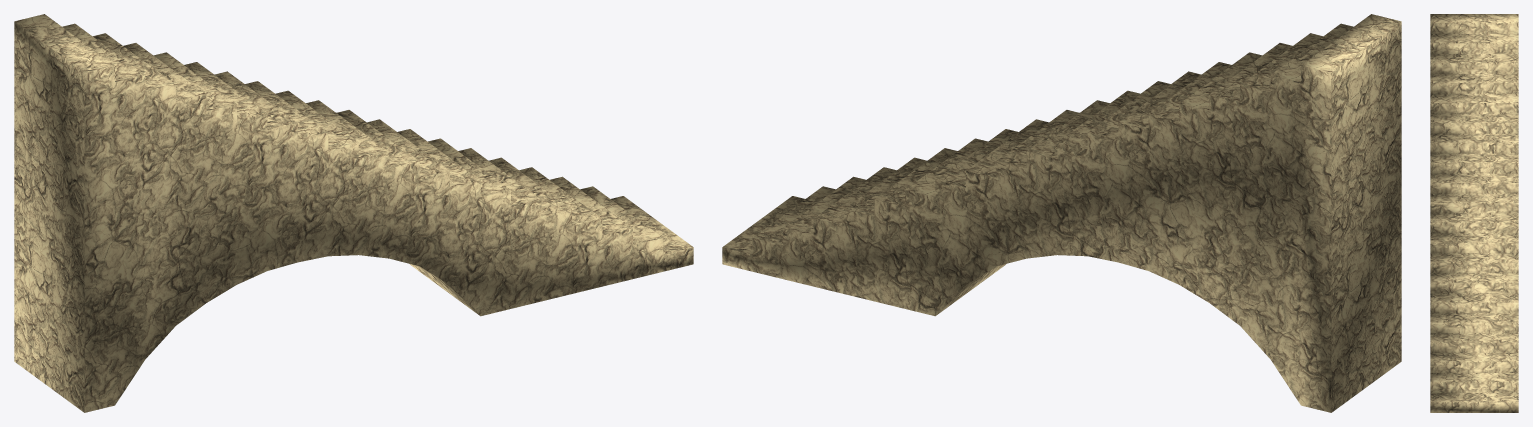
Rendered from stair.fbx.
The picture shows the model from 3 angles, left to right: view 1: azimuth 30°, elevation 25°; view 2: azimuth 150°, elevation 25°; view 3: azimuth 270°, elevation 25°; orthographic projection. The views are drawn at different scales.
Parts seen in each view (by area): view 1: stair; view 2: stair; view 3: stair.
Boxes of the visible parts, bbox=[...] form: stair: bbox=[14, 14, 693, 412]; stair: bbox=[722, 14, 1401, 412]; stair: bbox=[1430, 14, 1518, 412].
Size of what is drawn, in the model's own units: 30 by 16 by 6.
